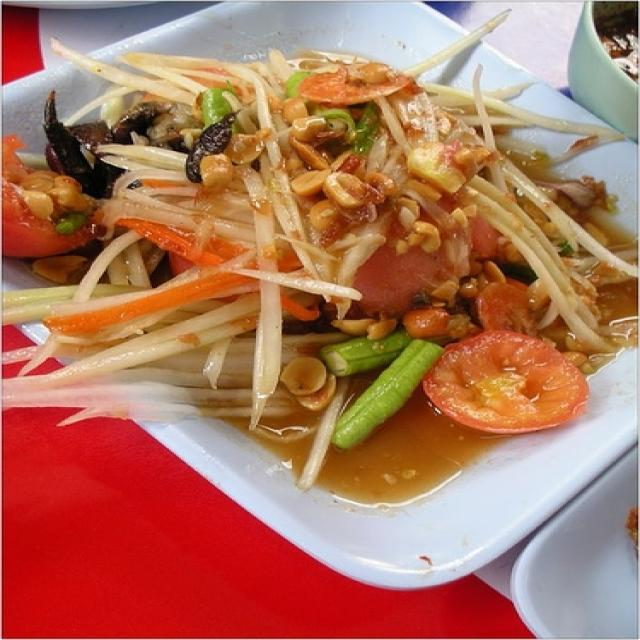蔬菜料理: (17, 23, 613, 554)
